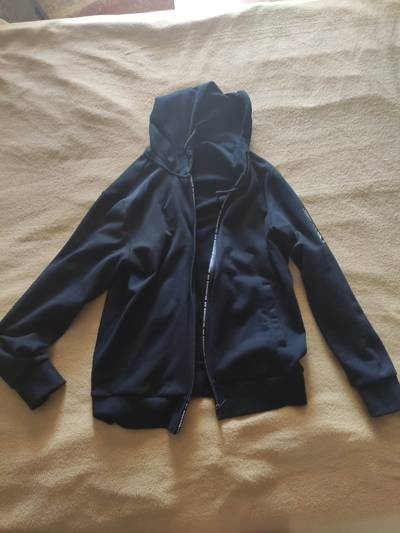Hoodie: (12, 74, 396, 439)
